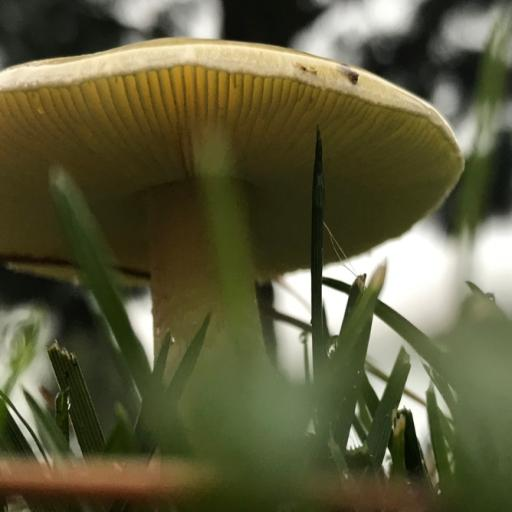Death Cap: (0, 47, 458, 344)
